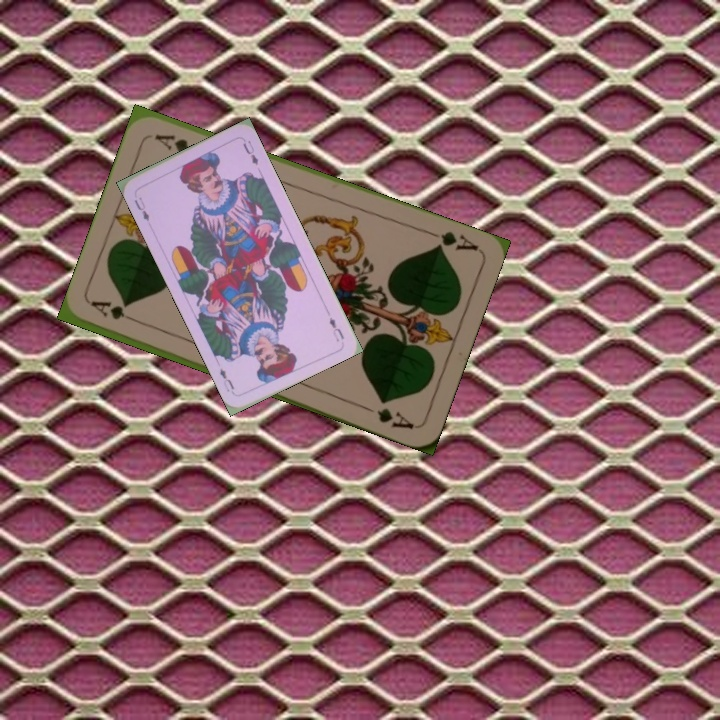EU: (130, 193, 152, 224), (325, 313, 347, 344)
GA: (88, 297, 145, 327), (423, 227, 481, 254)
